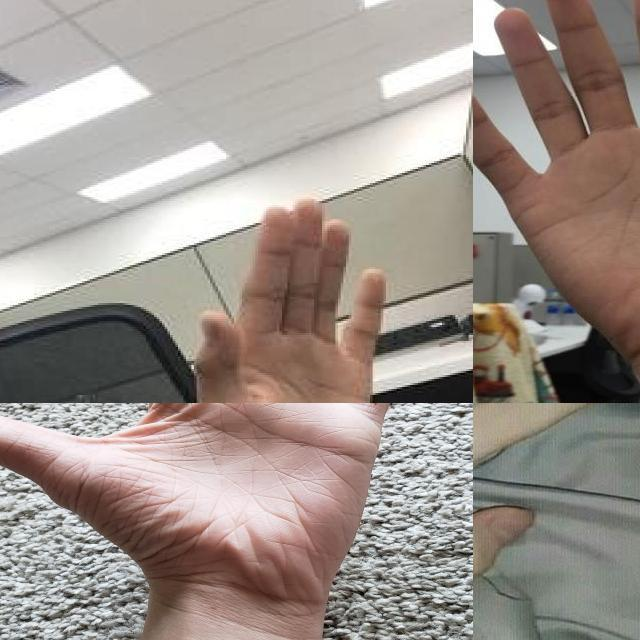hand: (0, 403, 424, 608), (473, 0, 640, 332), (191, 191, 391, 403), (473, 403, 640, 634)
